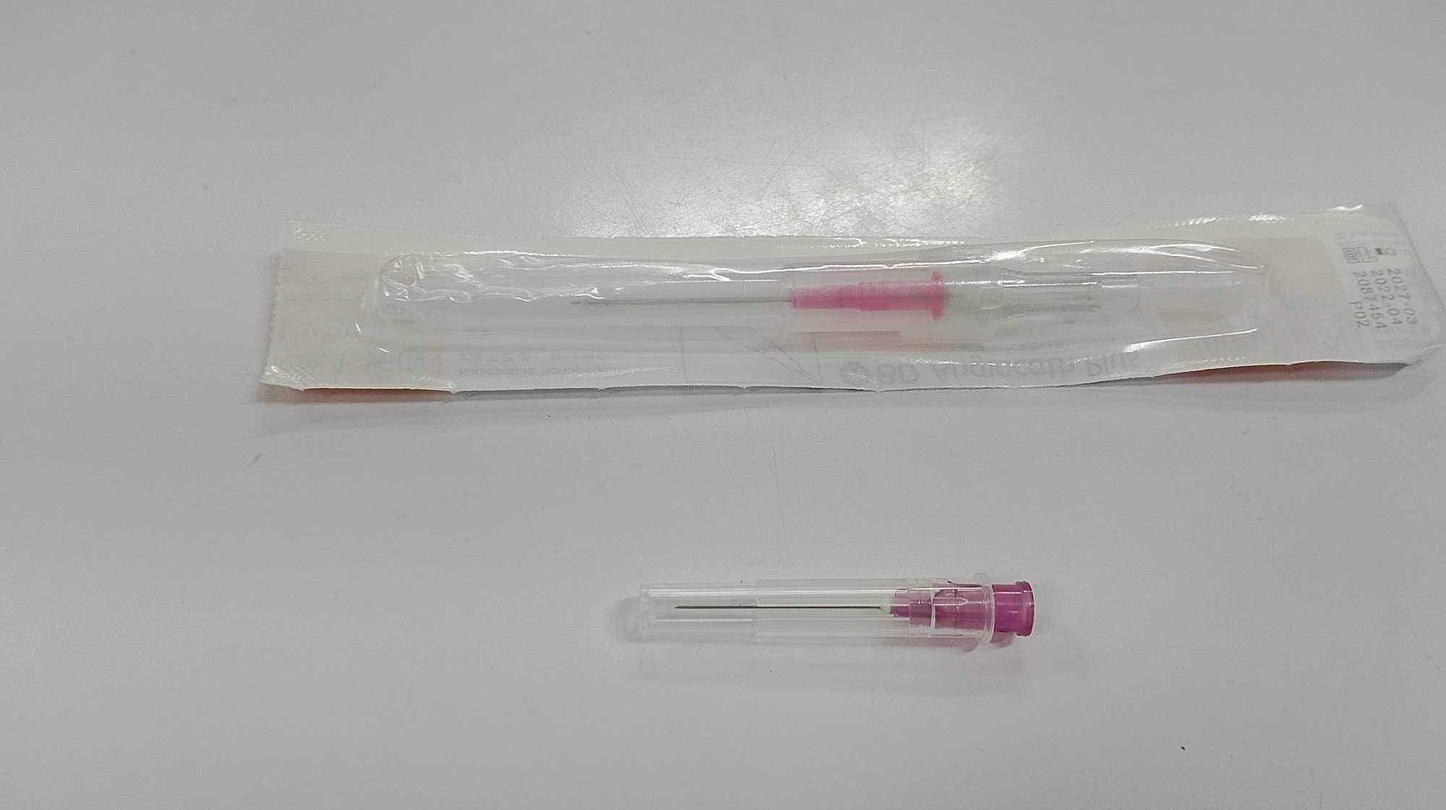General: (257, 200, 1440, 399)
Sharps: (630, 576, 1037, 649)
